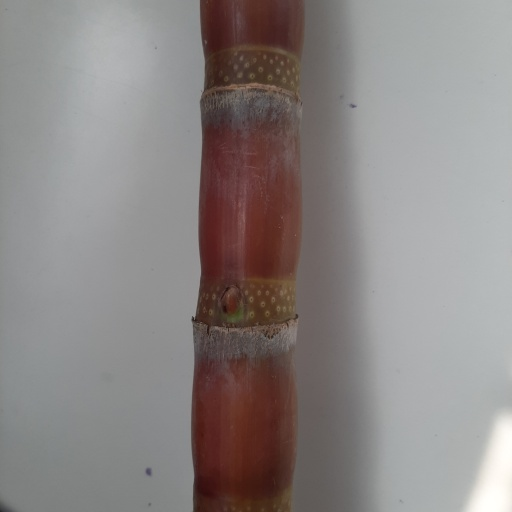Bud: (217, 285, 247, 319)
